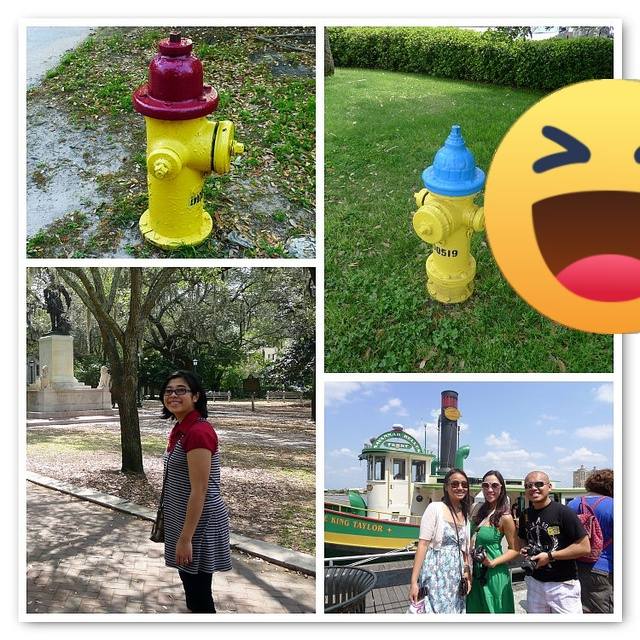haha: (484, 79, 640, 334)
